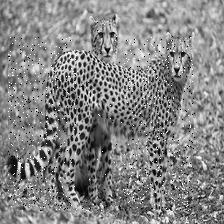Cheetha: (9, 37, 196, 211), (77, 14, 125, 205)
